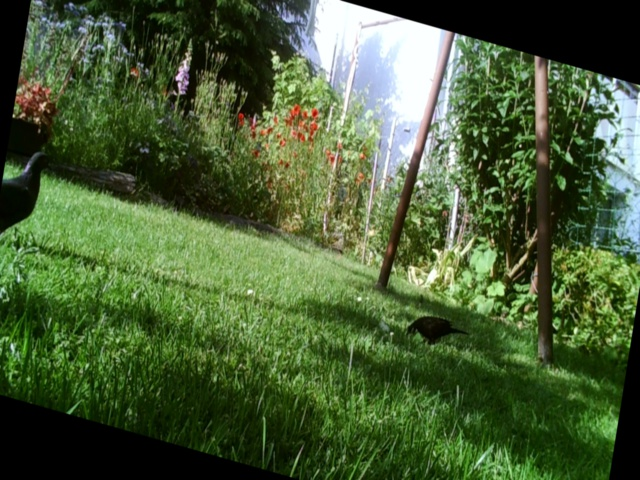Pigeon: (1, 151, 59, 237)
